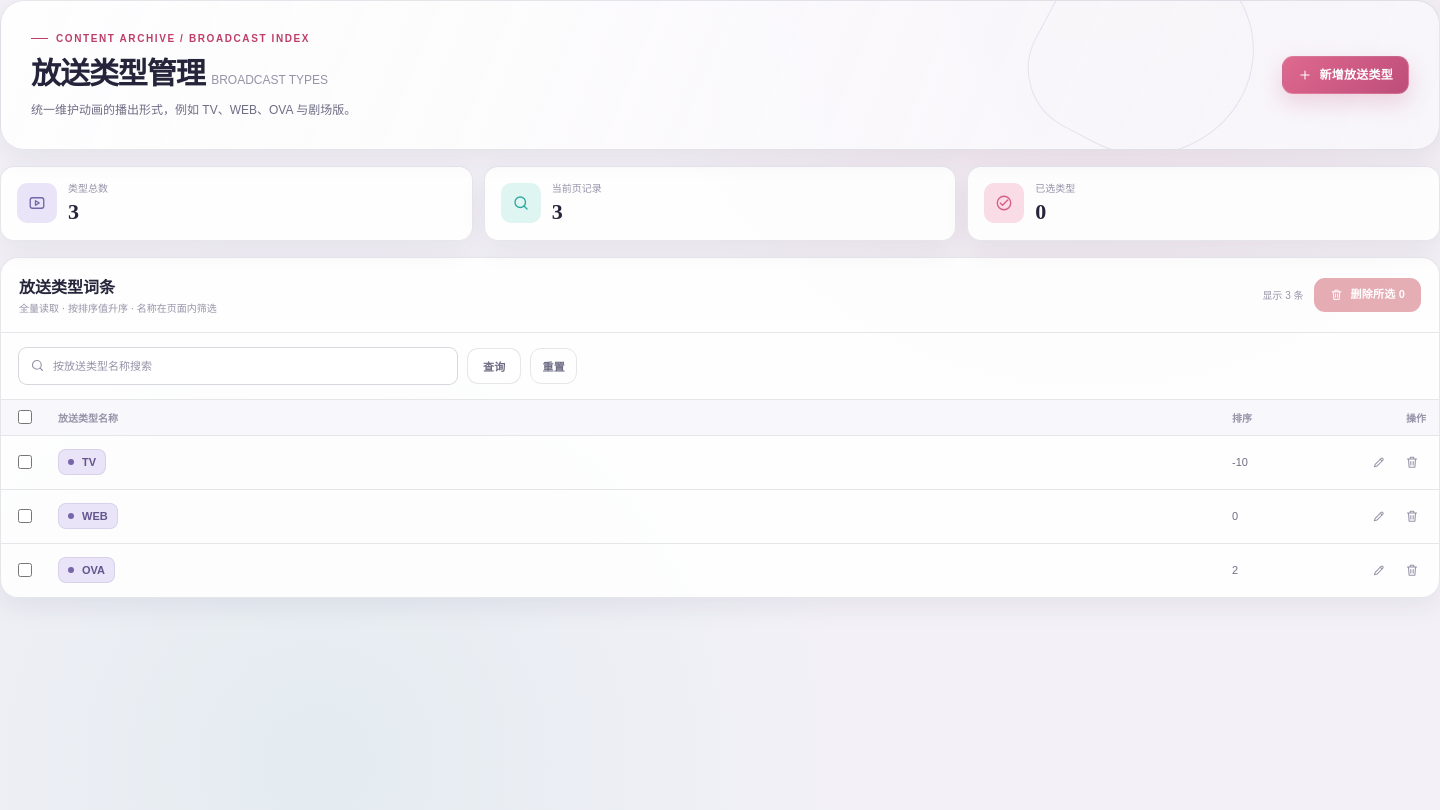
Test: 放送类型管理页面 › 删除需勾选确认，批量删除使用内部 ID
Expected: the button with class "danger-button" is disabled, x1=1314 y1=278 x2=1421 y2=312
Click the checkbox named "选择当前结果全部放送类型": (25, 417) x1=18 y1=410 x2=32 y2=424
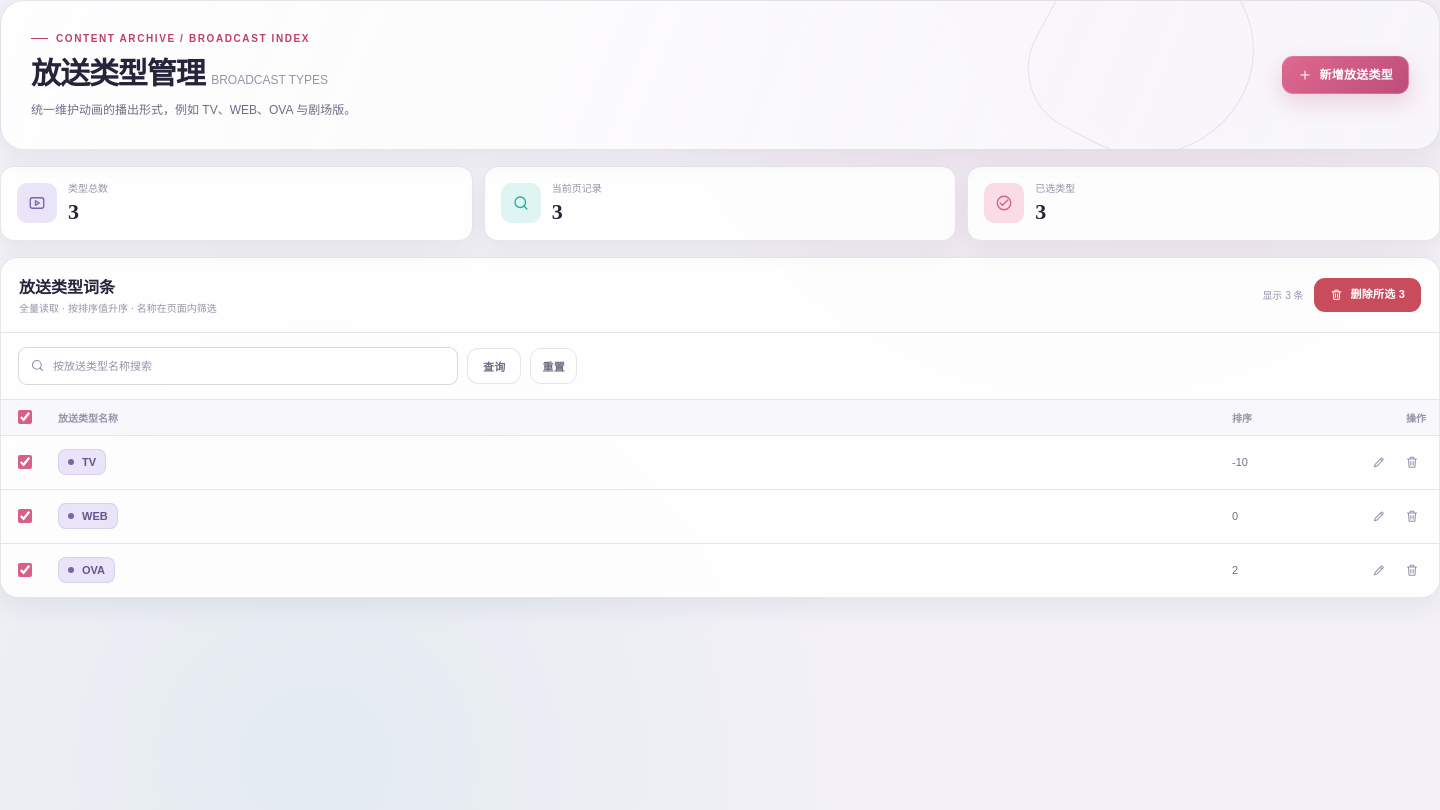
Click the button with class "danger-button": (1367, 294) x1=1314 y1=278 x2=1421 y2=312
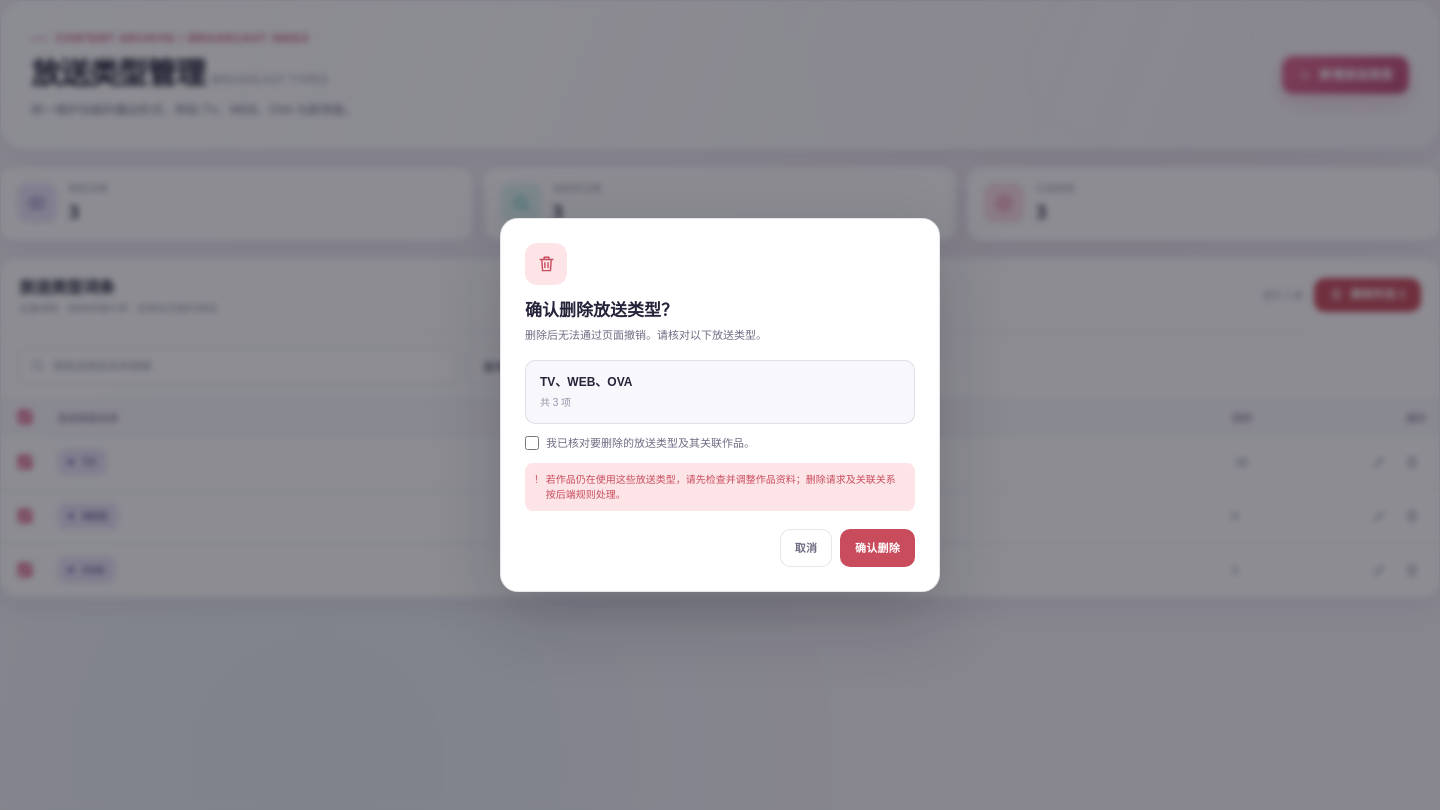
Click the button with class "danger-button" showing "确认删除": (878, 548) x1=840 y1=530 x2=915 y2=568
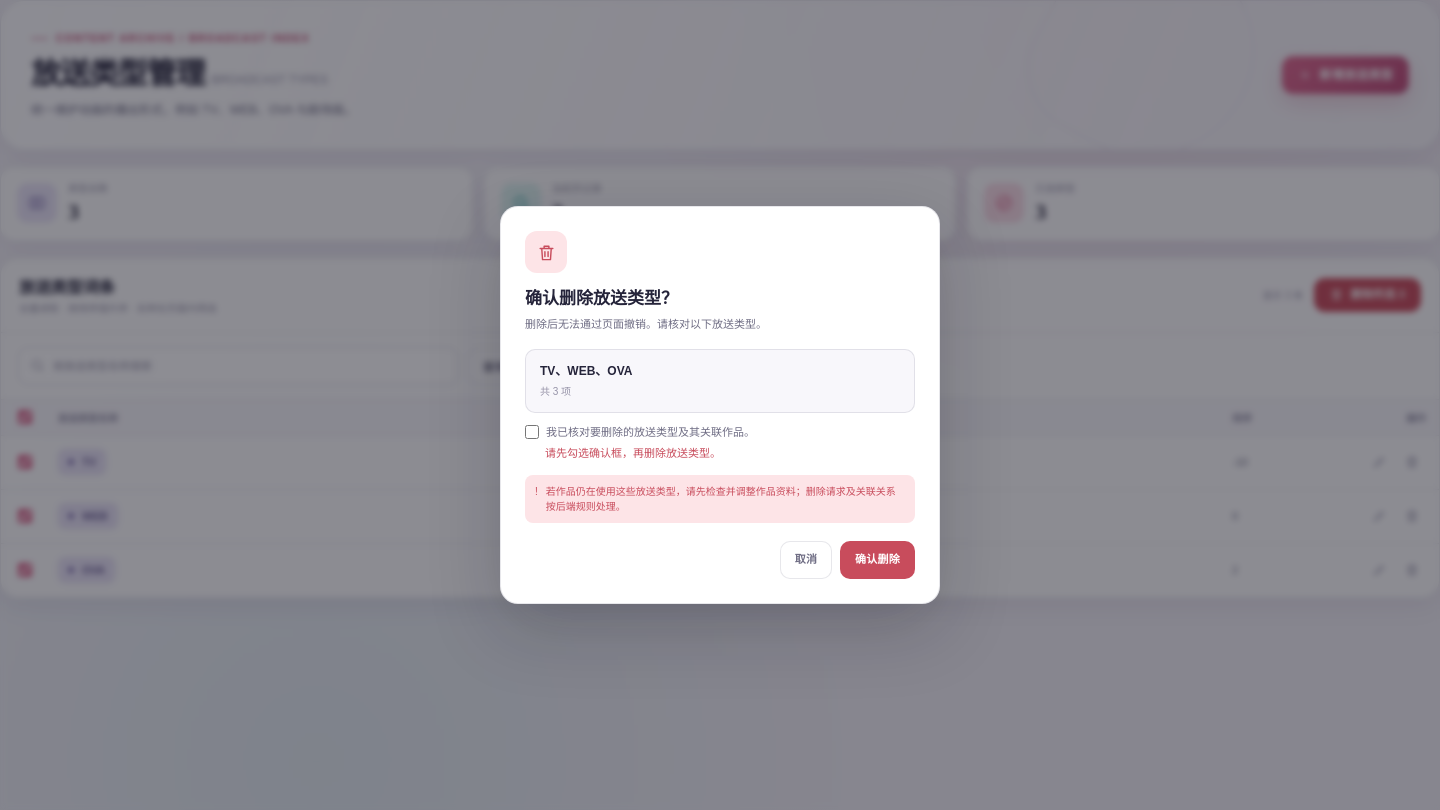
Now the message with class "broadcast-delete-error" shows "请先勾选", box x1=545 y1=448 x2=721 y2=460
Click the checkbox labelled "我已核对要删除的放送类型及其关联作品。": (532, 432) x1=525 y1=425 x2=539 y2=439
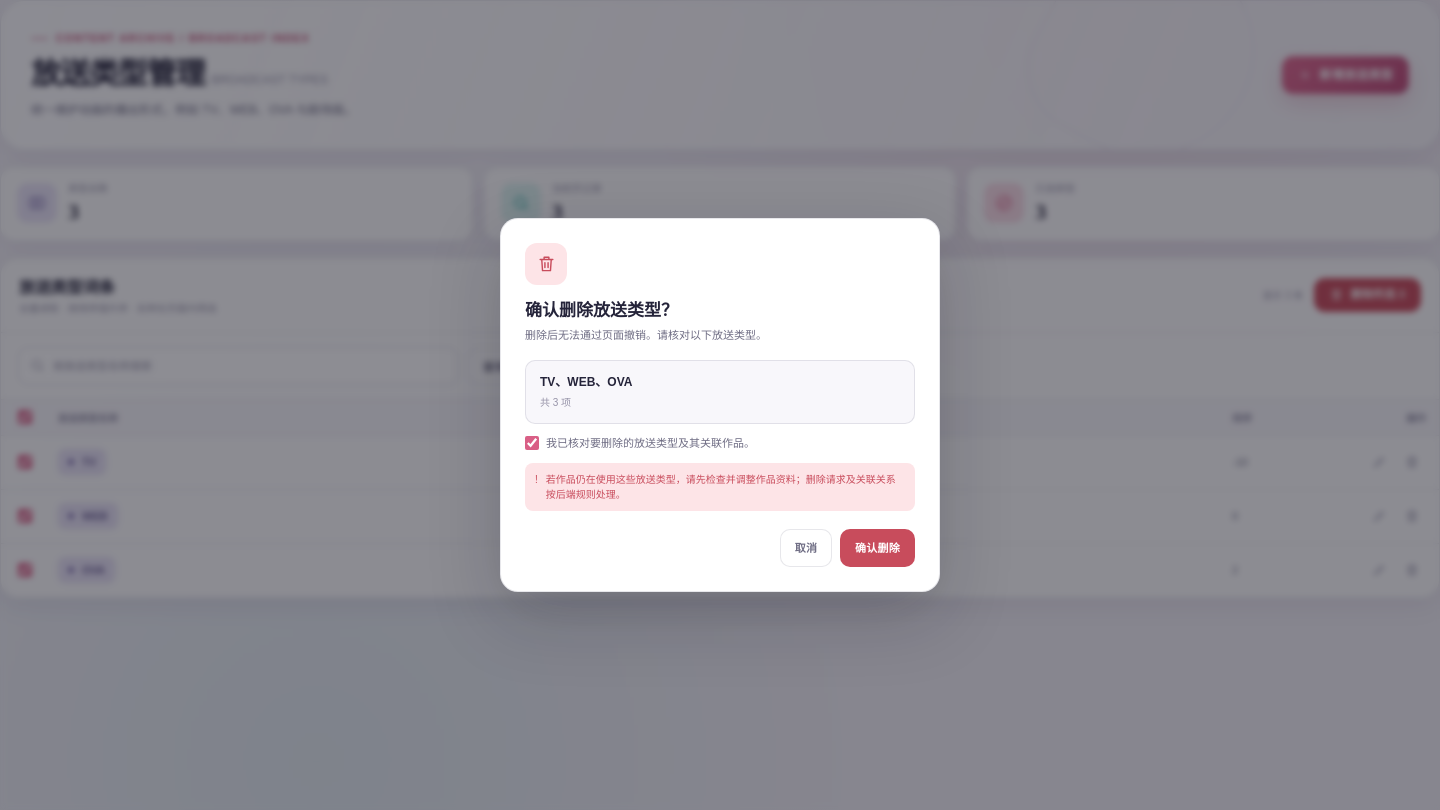
Click the button with class "danger-button" showing "确认删除": (878, 548) x1=840 y1=530 x2=915 y2=568
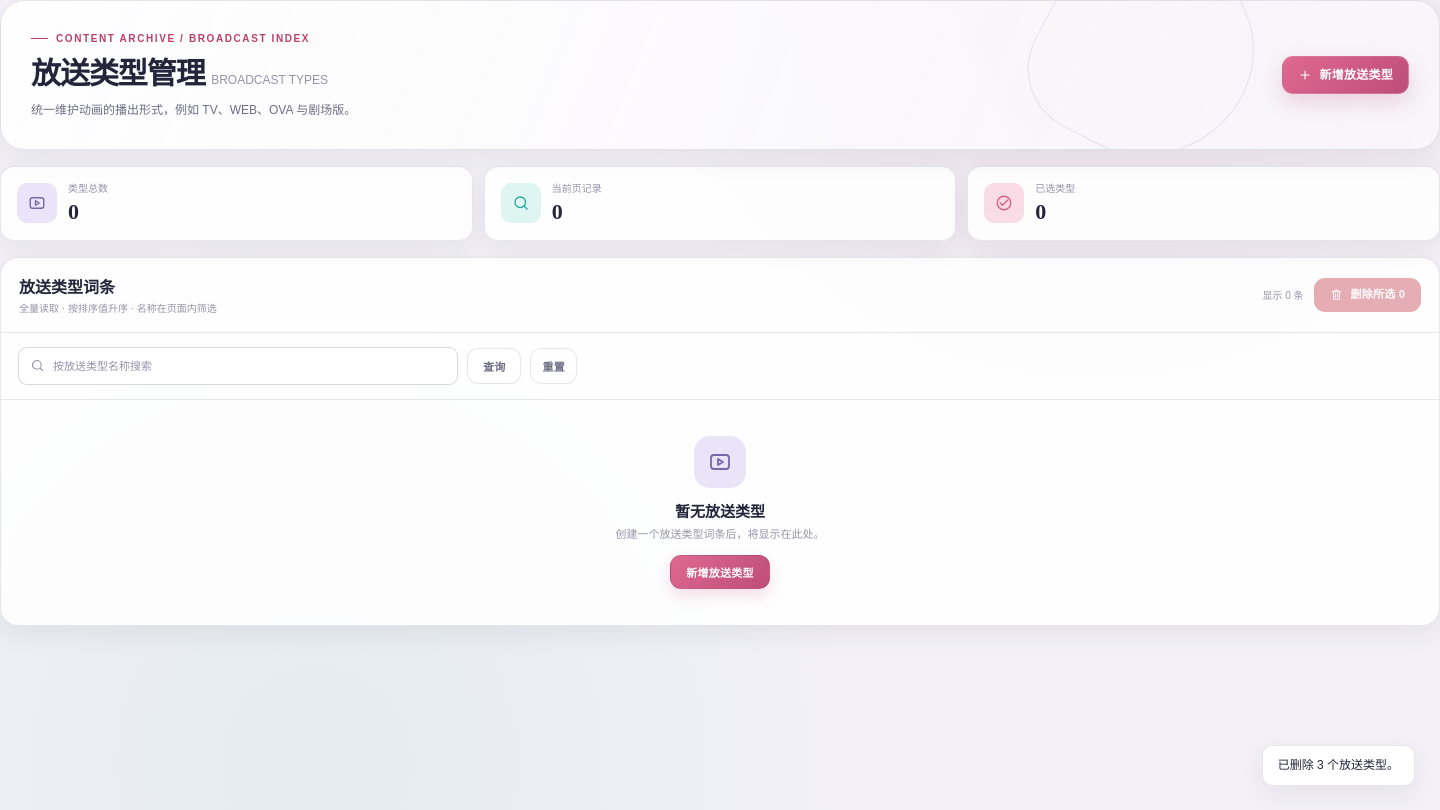
Now the text "暂无放送类型" is shown, box x1=675 y1=500 x2=765 y2=520
